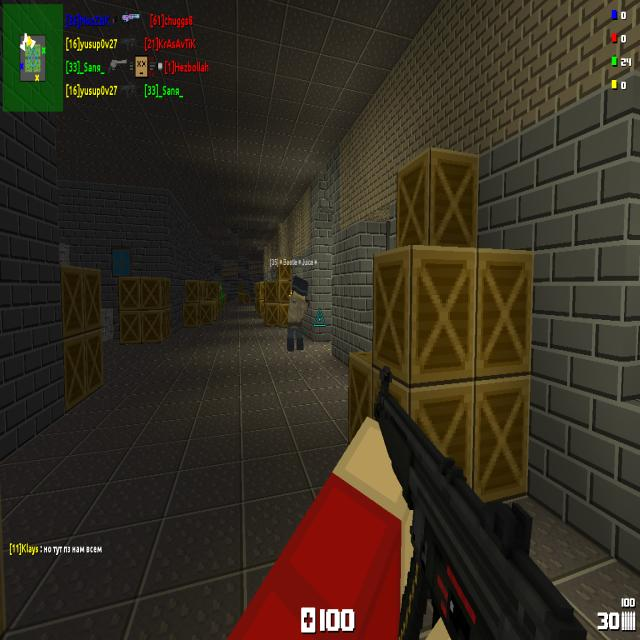enemy: (218, 282, 224, 308)
